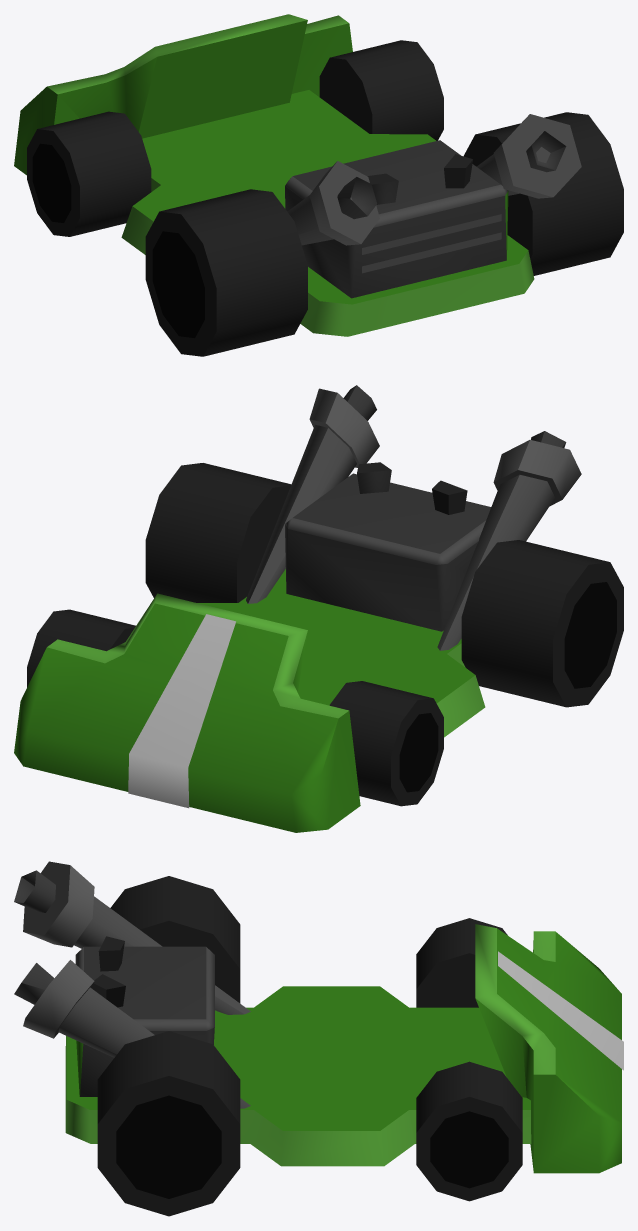
The model's file is hat_kartbros.glb.
3 renders of one model, top to bottom at view 1: azimuth 30°, elevation 25°; view 2: azimuth 150°, elevation 25°; view 3: azimuth 270°, elevation 25°, orthographic.
Parts seen in each view (by area): view 1: hat_kartbros; view 2: hat_kartbros; view 3: hat_kartbros.
Part boxes in pixels (<box>): hat_kartbros: <box>14,14,623,356</box>; hat_kartbros: <box>14,385,623,832</box>; hat_kartbros: <box>14,861,623,1216</box>.
Bounding box in the file's own units: 0.6749 × 0.3178 × 0.8604.
